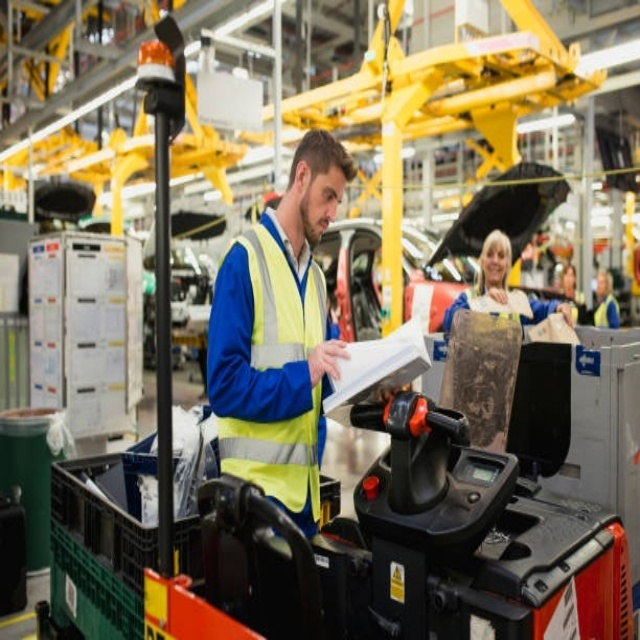Sin_gafas: (317, 169, 343, 212), (487, 246, 506, 262)
Sin_guantes: (308, 339, 352, 388), (486, 286, 509, 306)
Sin_mascara: (306, 213, 336, 240), (488, 257, 504, 279)
